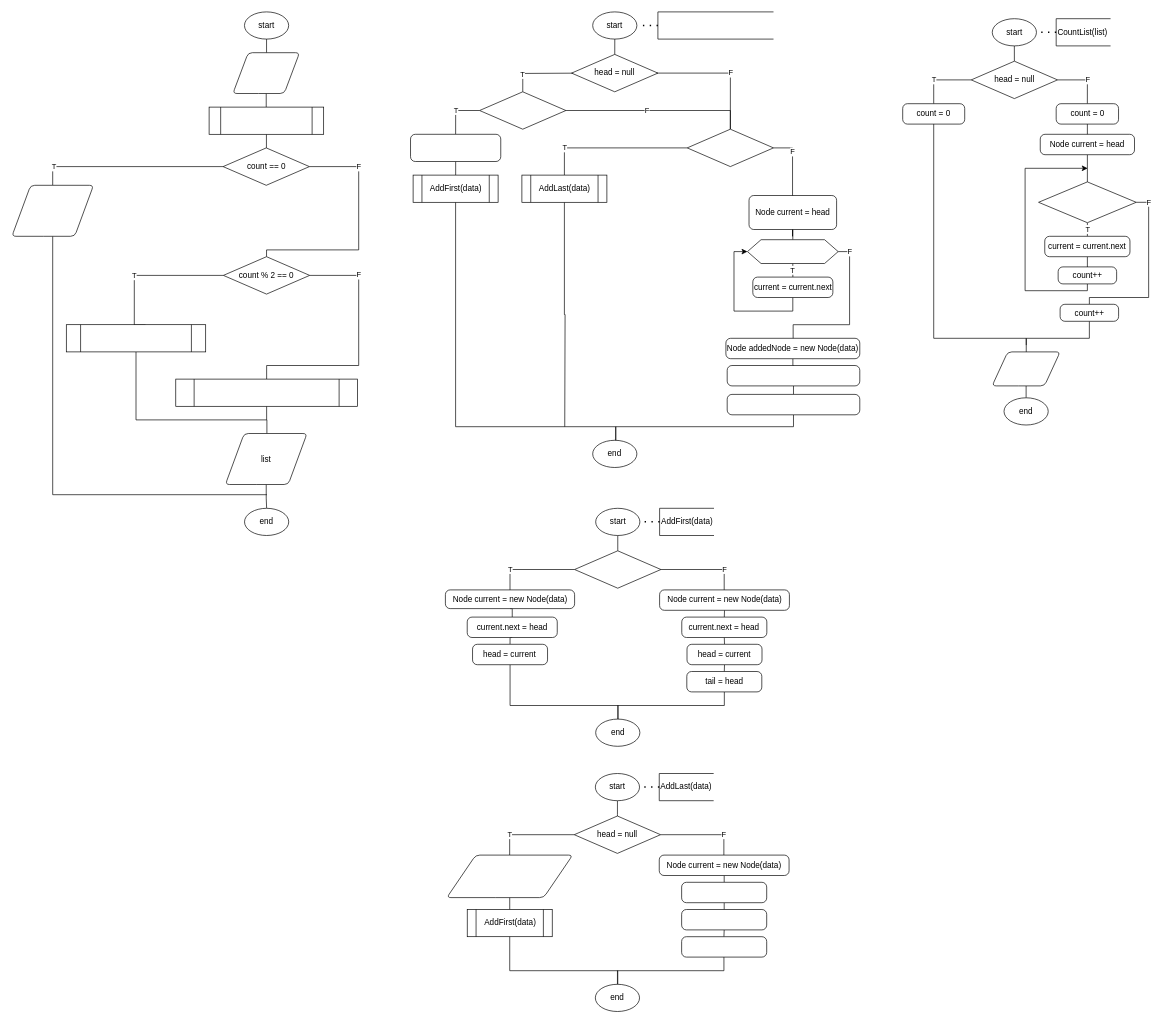
This 1163x1023 diagram has some shape labels left out. The box of each missing label's shape, as (x1, y1, x2, y2) in pixels:
"Список пустий": (11, 185, 94, 236)
"Список пустий: додано першим": (446, 854, 573, 898)
addedNode.next = current.next: (727, 365, 860, 386)
AddToPosition(data, (count/2)+1, count): (175, 378, 357, 406)
AddToPosition(data, 2, count): (66, 324, 206, 352)
AddToPosition(data, pos, count): (657, 11, 774, 39)
count: (991, 351, 1060, 386)
count = CountList(list): (208, 106, 324, 134)
current.next != tail.next: (1038, 181, 1136, 223)
current.next = addedNode: (727, 394, 860, 415)
current.next = null: (681, 882, 767, 903)
data Є R SLList list Node head Node tail: (232, 52, 300, 94)
head != null: (574, 550, 661, 588)
head = new Node(data): (410, 134, 501, 162)
i = 2; i < pos; i++: (747, 239, 838, 264)
pos = 1: (479, 91, 566, 129)
pos > count: (687, 129, 774, 167)
tail = current: (681, 936, 767, 957)
tail.next = current: (681, 909, 767, 930)
